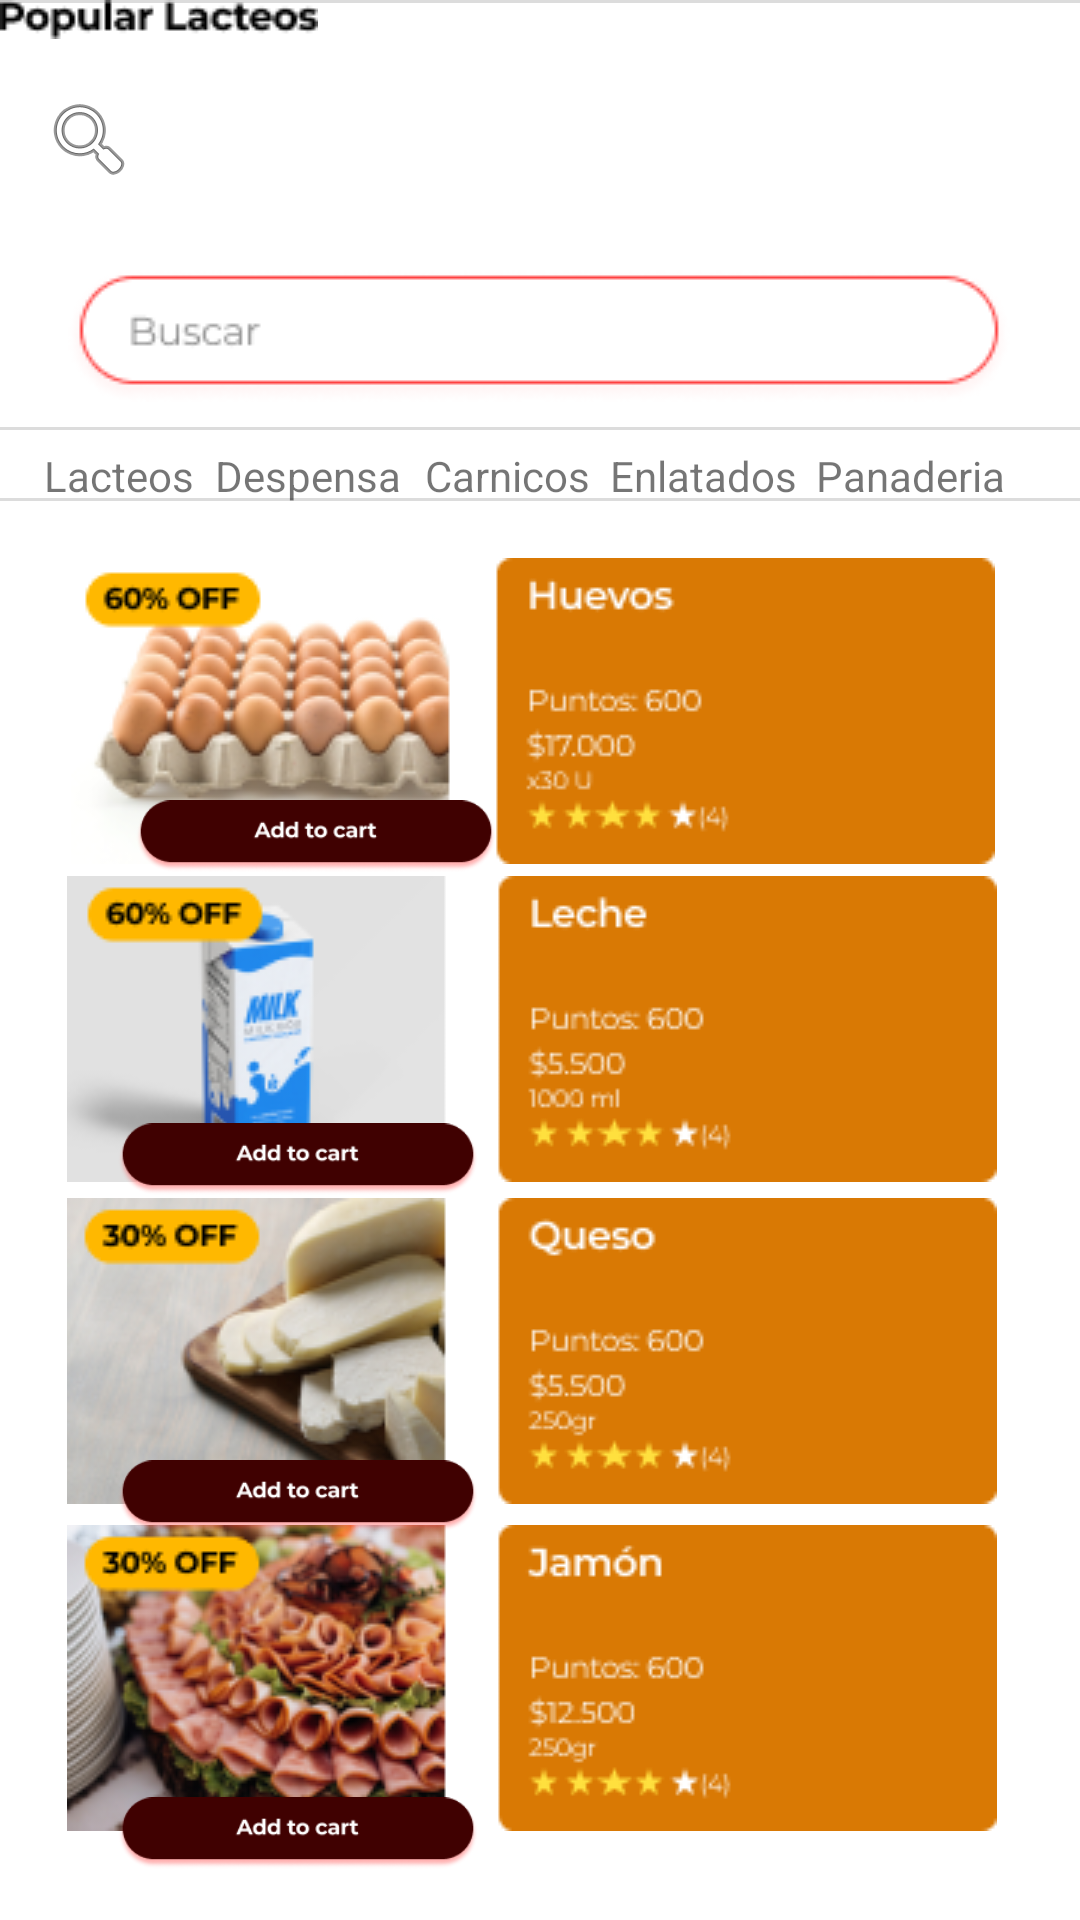

Locate icon controls on the screen. Image size 1080×1920, boxes as (x1, y1, x2, y2).
search: (53, 104, 125, 175)
